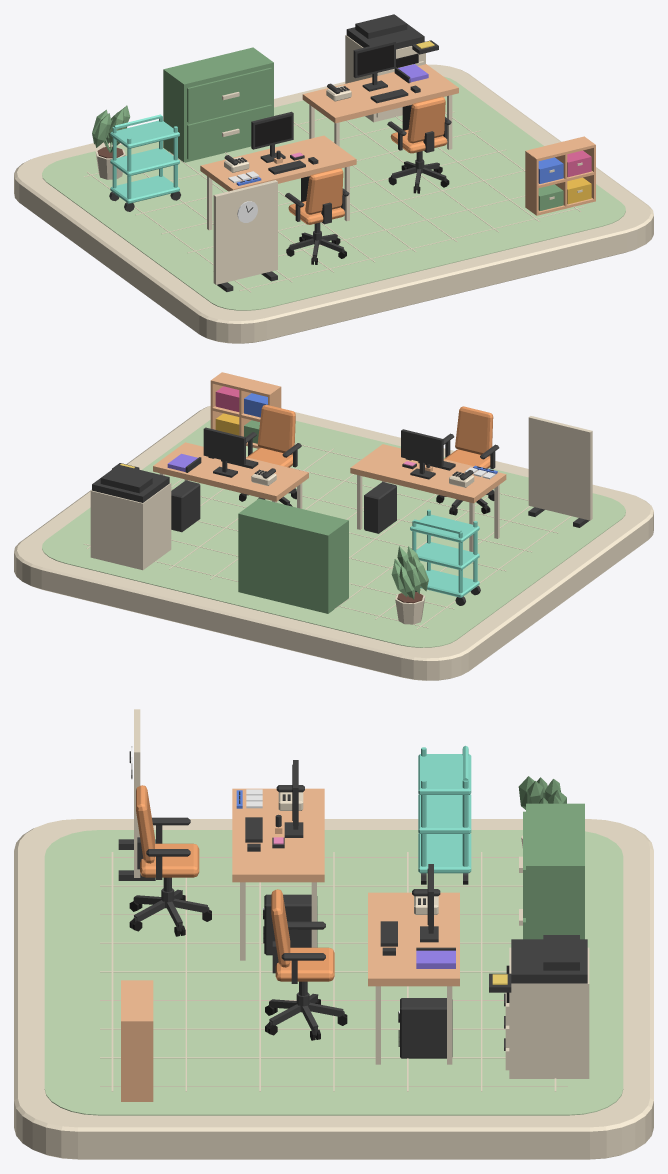
The picture shows the model from 3 angles, top to bottom: view 1: azimuth 30°, elevation 25°; view 2: azimuth 150°, elevation 25°; view 3: azimuth 270°, elevation 25°; orthographic projection. The views are drawn at different scales.
Parts seen in each view (by area): view 1: COM-02 Floor Surface, COM-01 Rounded Base Direct, Cabinet, Panel, Top.001, Top, Body, COM-04_Chair_blender_direct.001, COM-04_Chair_blender_direct, Pot, Frame.001, Frame (+9 smaller); view 2: COM-02 Floor Surface, COM-01 Rounded Base Direct, Cabinet, Body, Panel, Top, Top.001, COM-04_Chair_blender_direct, COM-04_Chair_blender_direct.001, Pot, Frame, Frame.001 (+7 smaller); view 3: COM-02 Floor Surface, COM-01 Rounded Base Direct, Body, Cabinet, Top, Top.001, COM-04_Chair_blender_direct, COM-04_Chair_blender_direct.001, Tower.001, Cubbies divider.002, Tray.002, Tray.001 (+10 smaller).
Boxes of the visible parts, left/top/right/bottom form: COM-02 Floor Surface: left=42, top=76, right=625, bottom=310; COM-01 Rounded Base Direct: left=14, top=64, right=653, bottom=343; Cabinet: left=163, top=47, right=273, bottom=162; Panel: left=213, top=180, right=277, bottom=284; Top.001: left=302, top=64, right=458, bottom=149; Top: left=200, top=135, right=356, bottom=230; Body: left=345, top=14, right=438, bottom=122; COM-04_Chair_blender_direct.001: left=387, top=96, right=451, bottom=193; COM-04_Chair_blender_direct: left=285, top=168, right=349, bottom=264; Pot: left=92, top=105, right=130, bottom=179; Frame.001: left=353, top=40, right=395, bottom=91; Frame: left=251, top=111, right=293, bottom=162; COM-02 Floor Surface: left=42, top=420, right=625, bottom=647; COM-01 Rounded Base Direct: left=14, top=406, right=653, bottom=680; Cabinet: left=238, top=498, right=348, bottom=613; Body: left=90, top=463, right=171, bottom=570; Panel: left=528, top=416, right=592, bottom=520; Top: left=350, top=444, right=506, bottom=551; Top.001: left=153, top=442, right=308, bottom=508; COM-04_Chair_blender_direct: left=436, top=406, right=499, bottom=515; COM-04_Chair_blender_direct.001: left=239, top=404, right=301, bottom=506; Pot: left=391, top=546, right=428, bottom=624; Frame: left=401, top=429, right=443, bottom=479; Frame.001: left=203, top=427, right=245, bottom=477; COM-02 Floor Surface: left=44, top=830, right=623, bottom=1115; COM-01 Rounded Base Direct: left=14, top=819, right=653, bottom=1159; Body: left=489, top=935, right=589, bottom=1078; Cabinet: left=519, top=803, right=584, bottom=939; Top: left=232, top=788, right=324, bottom=960; Top.001: left=368, top=892, right=459, bottom=1064; COM-04_Chair_blender_direct: left=129, top=785, right=211, bottom=936; COM-04_Chair_blender_direct.001: left=265, top=889, right=347, bottom=1040; Tower.001: left=400, top=998, right=452, bottom=1058; Cubbies divider.002: left=121, top=1021, right=153, bottom=1101; Tray.002: left=418, top=754, right=471, bottom=794; Tray.001: left=418, top=794, right=471, bottom=833.
Bounding box in the file's own units: 6 × 1.61 × 5.2.
Materials: 1 (1 with a texture image).
